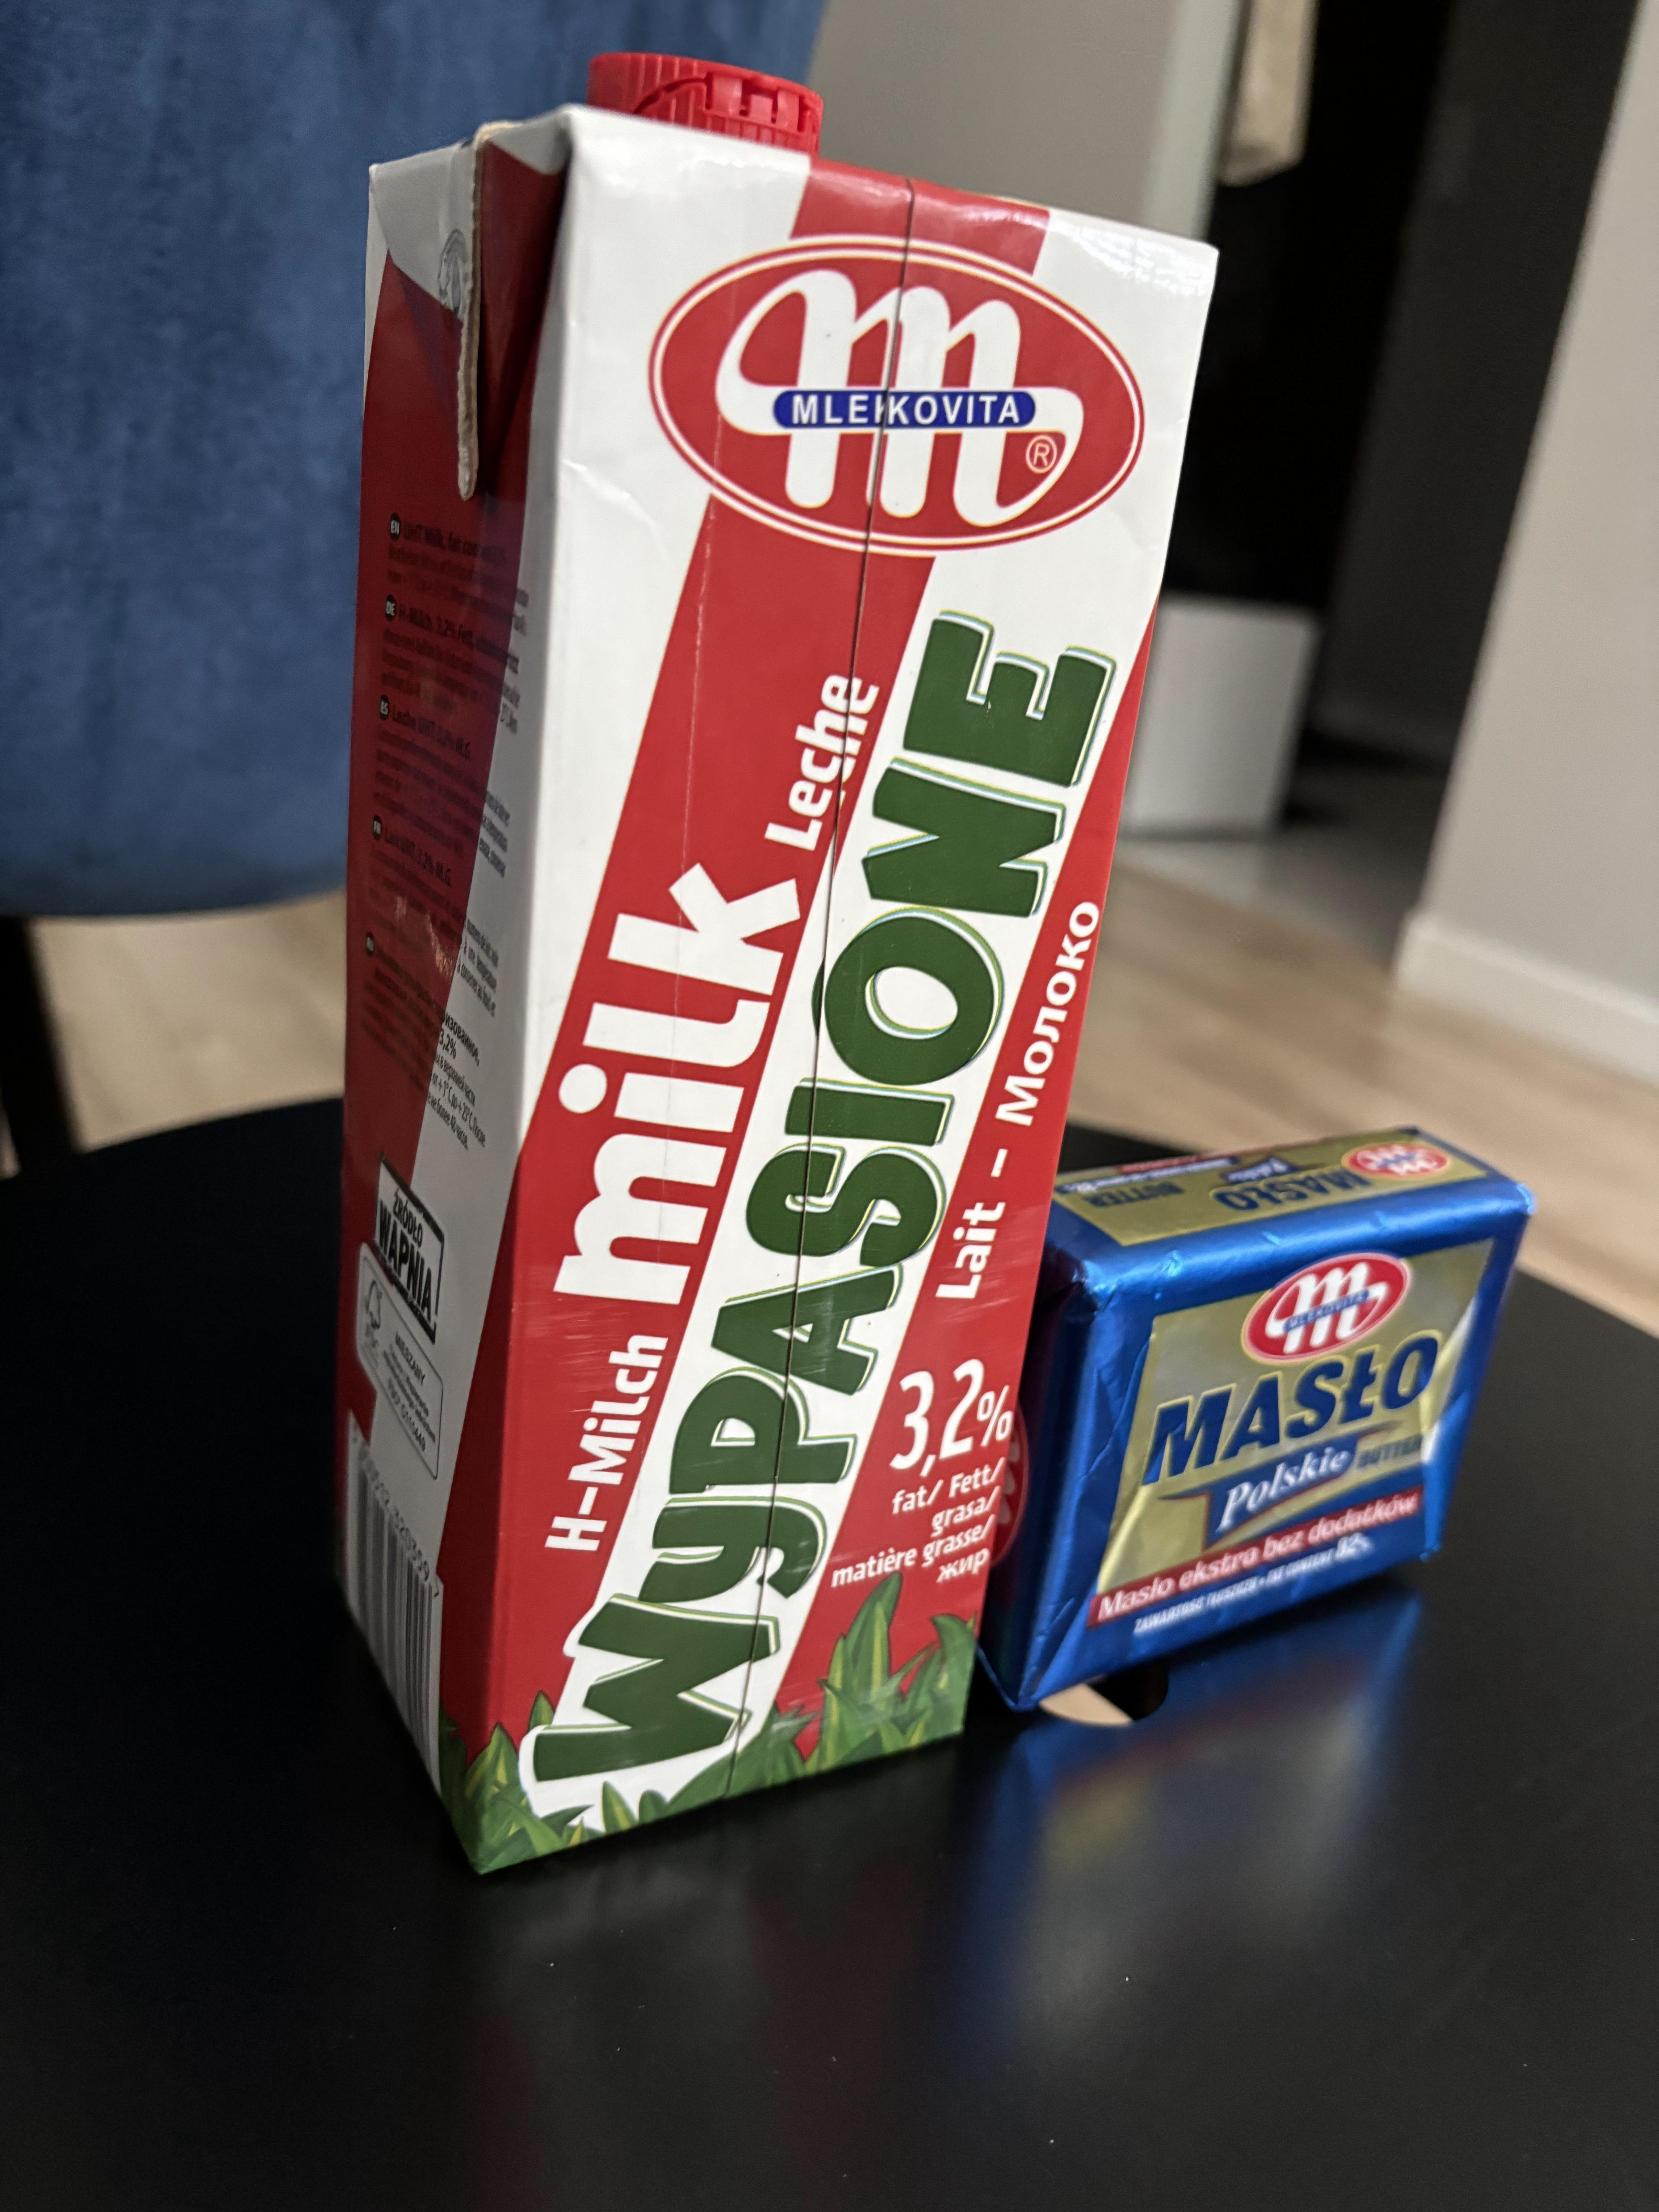Milk: (345, 136, 1051, 1773)
